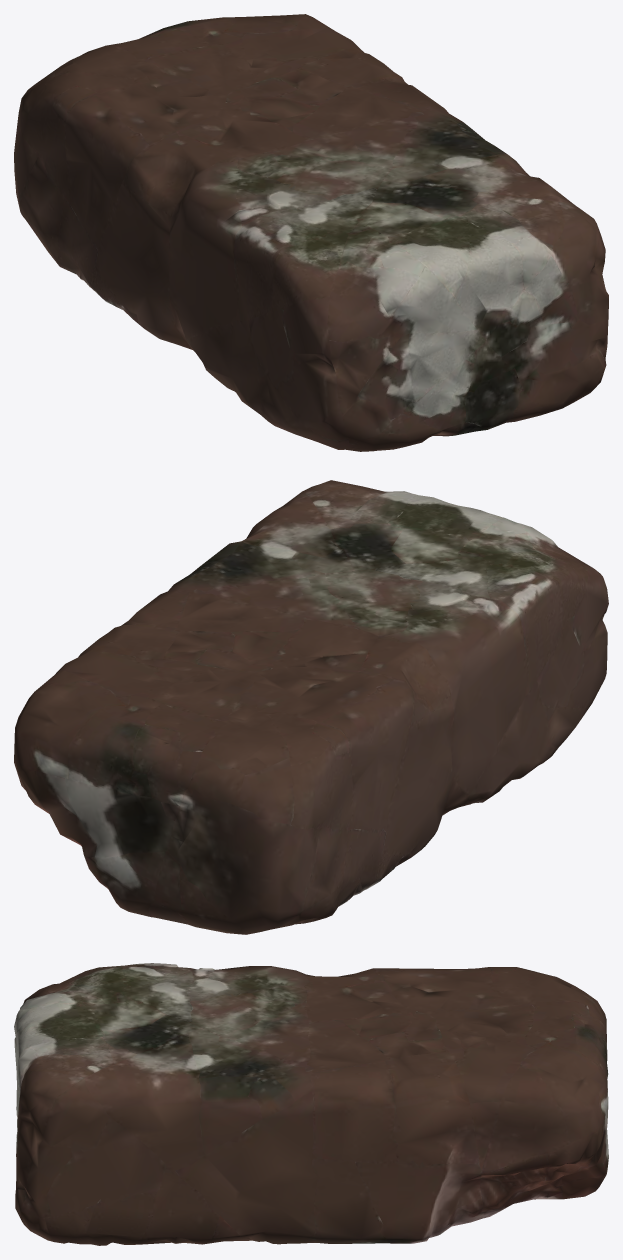
Rendered from brick.glb.
3 renders of one model, top to bottom at view 1: azimuth 30°, elevation 25°; view 2: azimuth 150°, elevation 25°; view 3: azimuth 270°, elevation 25°, orthographic. The views are drawn at different scales.
Visible parts, largest first — view 1: item; view 2: item; view 3: item.
Boxes of the visible parts, x1=… form: item: x1=14, y1=14, x2=608, y2=451; item: x1=14, y1=480, x2=608, y2=934; item: x1=14, y1=963, x2=608, y2=1245.
Size of the model in its own units: 0.1133 by 0.0692 by 0.22.
1 material, 1 textured.
